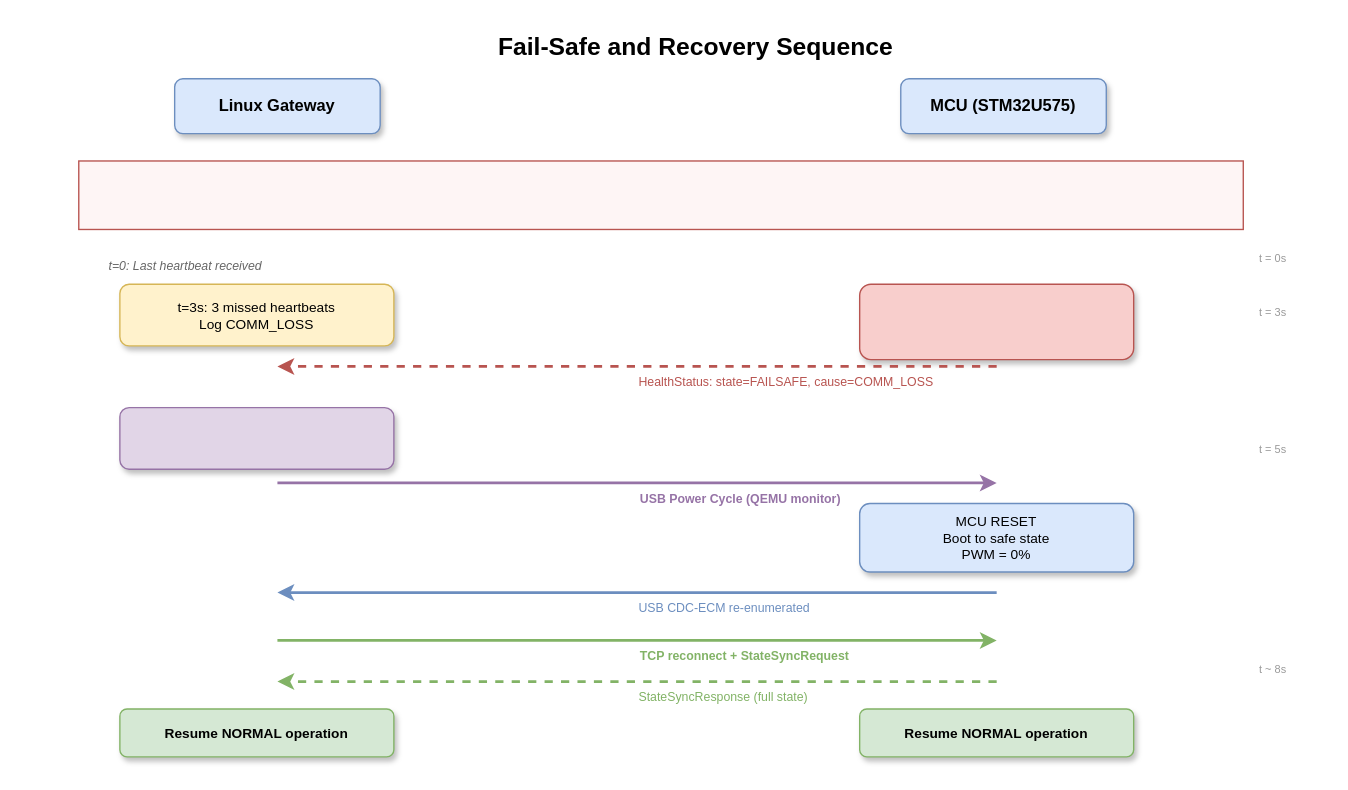
Some shapes in this 1348 by 790 pixel diagram are drawn without their labels. Here are the shapes that lost their labels. From the top down, the centre of each, then its label:
pixel 660 194: COMMUNICATION LOSS
pixel 997 323: t=3s: No Linux messages ENTER FAILSAFE All actuators to 0%
pixel 257 440: t=5s: Attempt recovery USB power cycle
